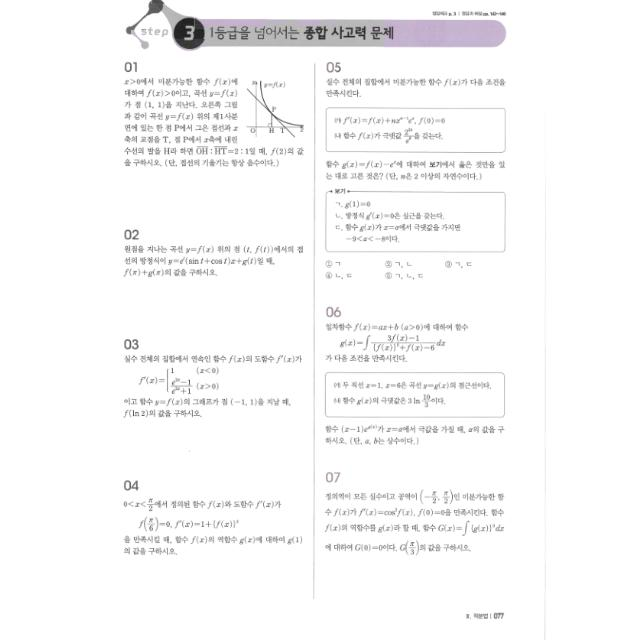multiple: (319, 55, 513, 288)
short: (318, 302, 514, 452), (118, 54, 308, 180), (318, 463, 516, 562), (116, 328, 308, 424), (114, 472, 308, 566), (115, 220, 308, 288)
